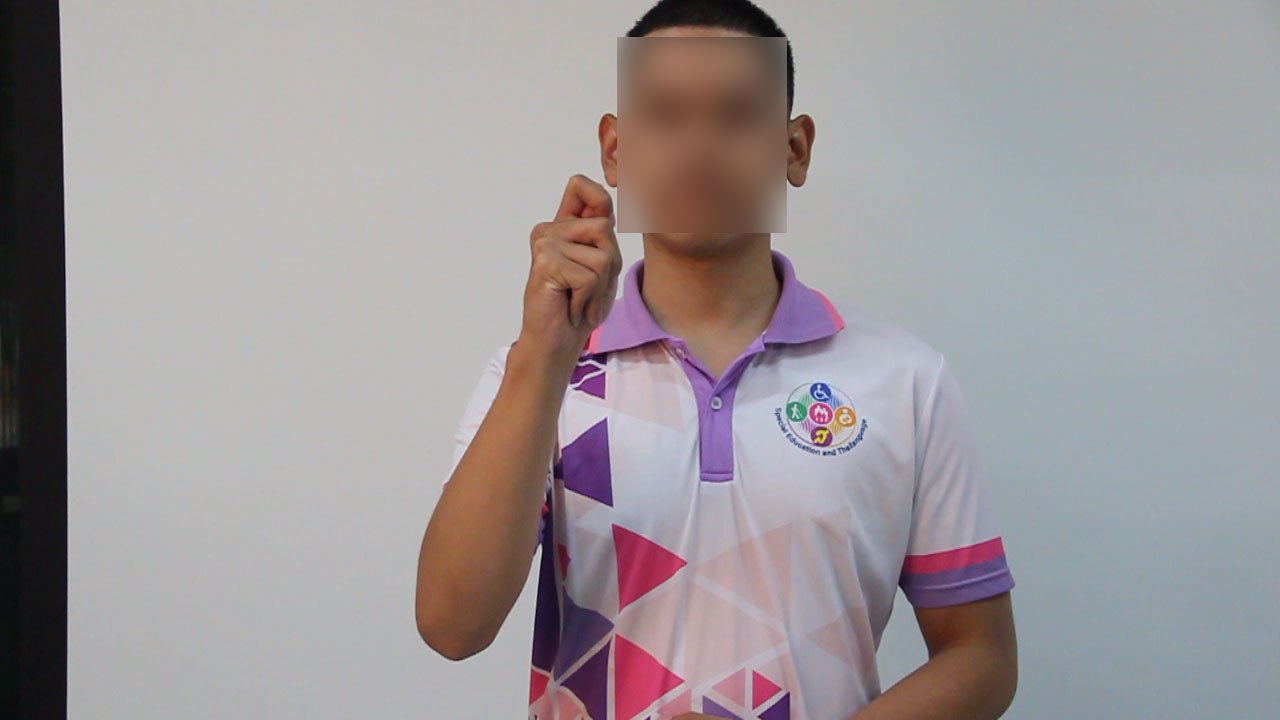or: (519, 170, 632, 375)
